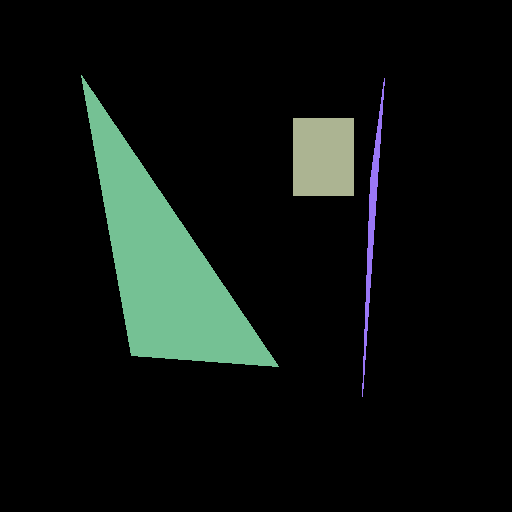rectangle: (293, 118, 353, 195)
triangle: (81, 75, 278, 366)
